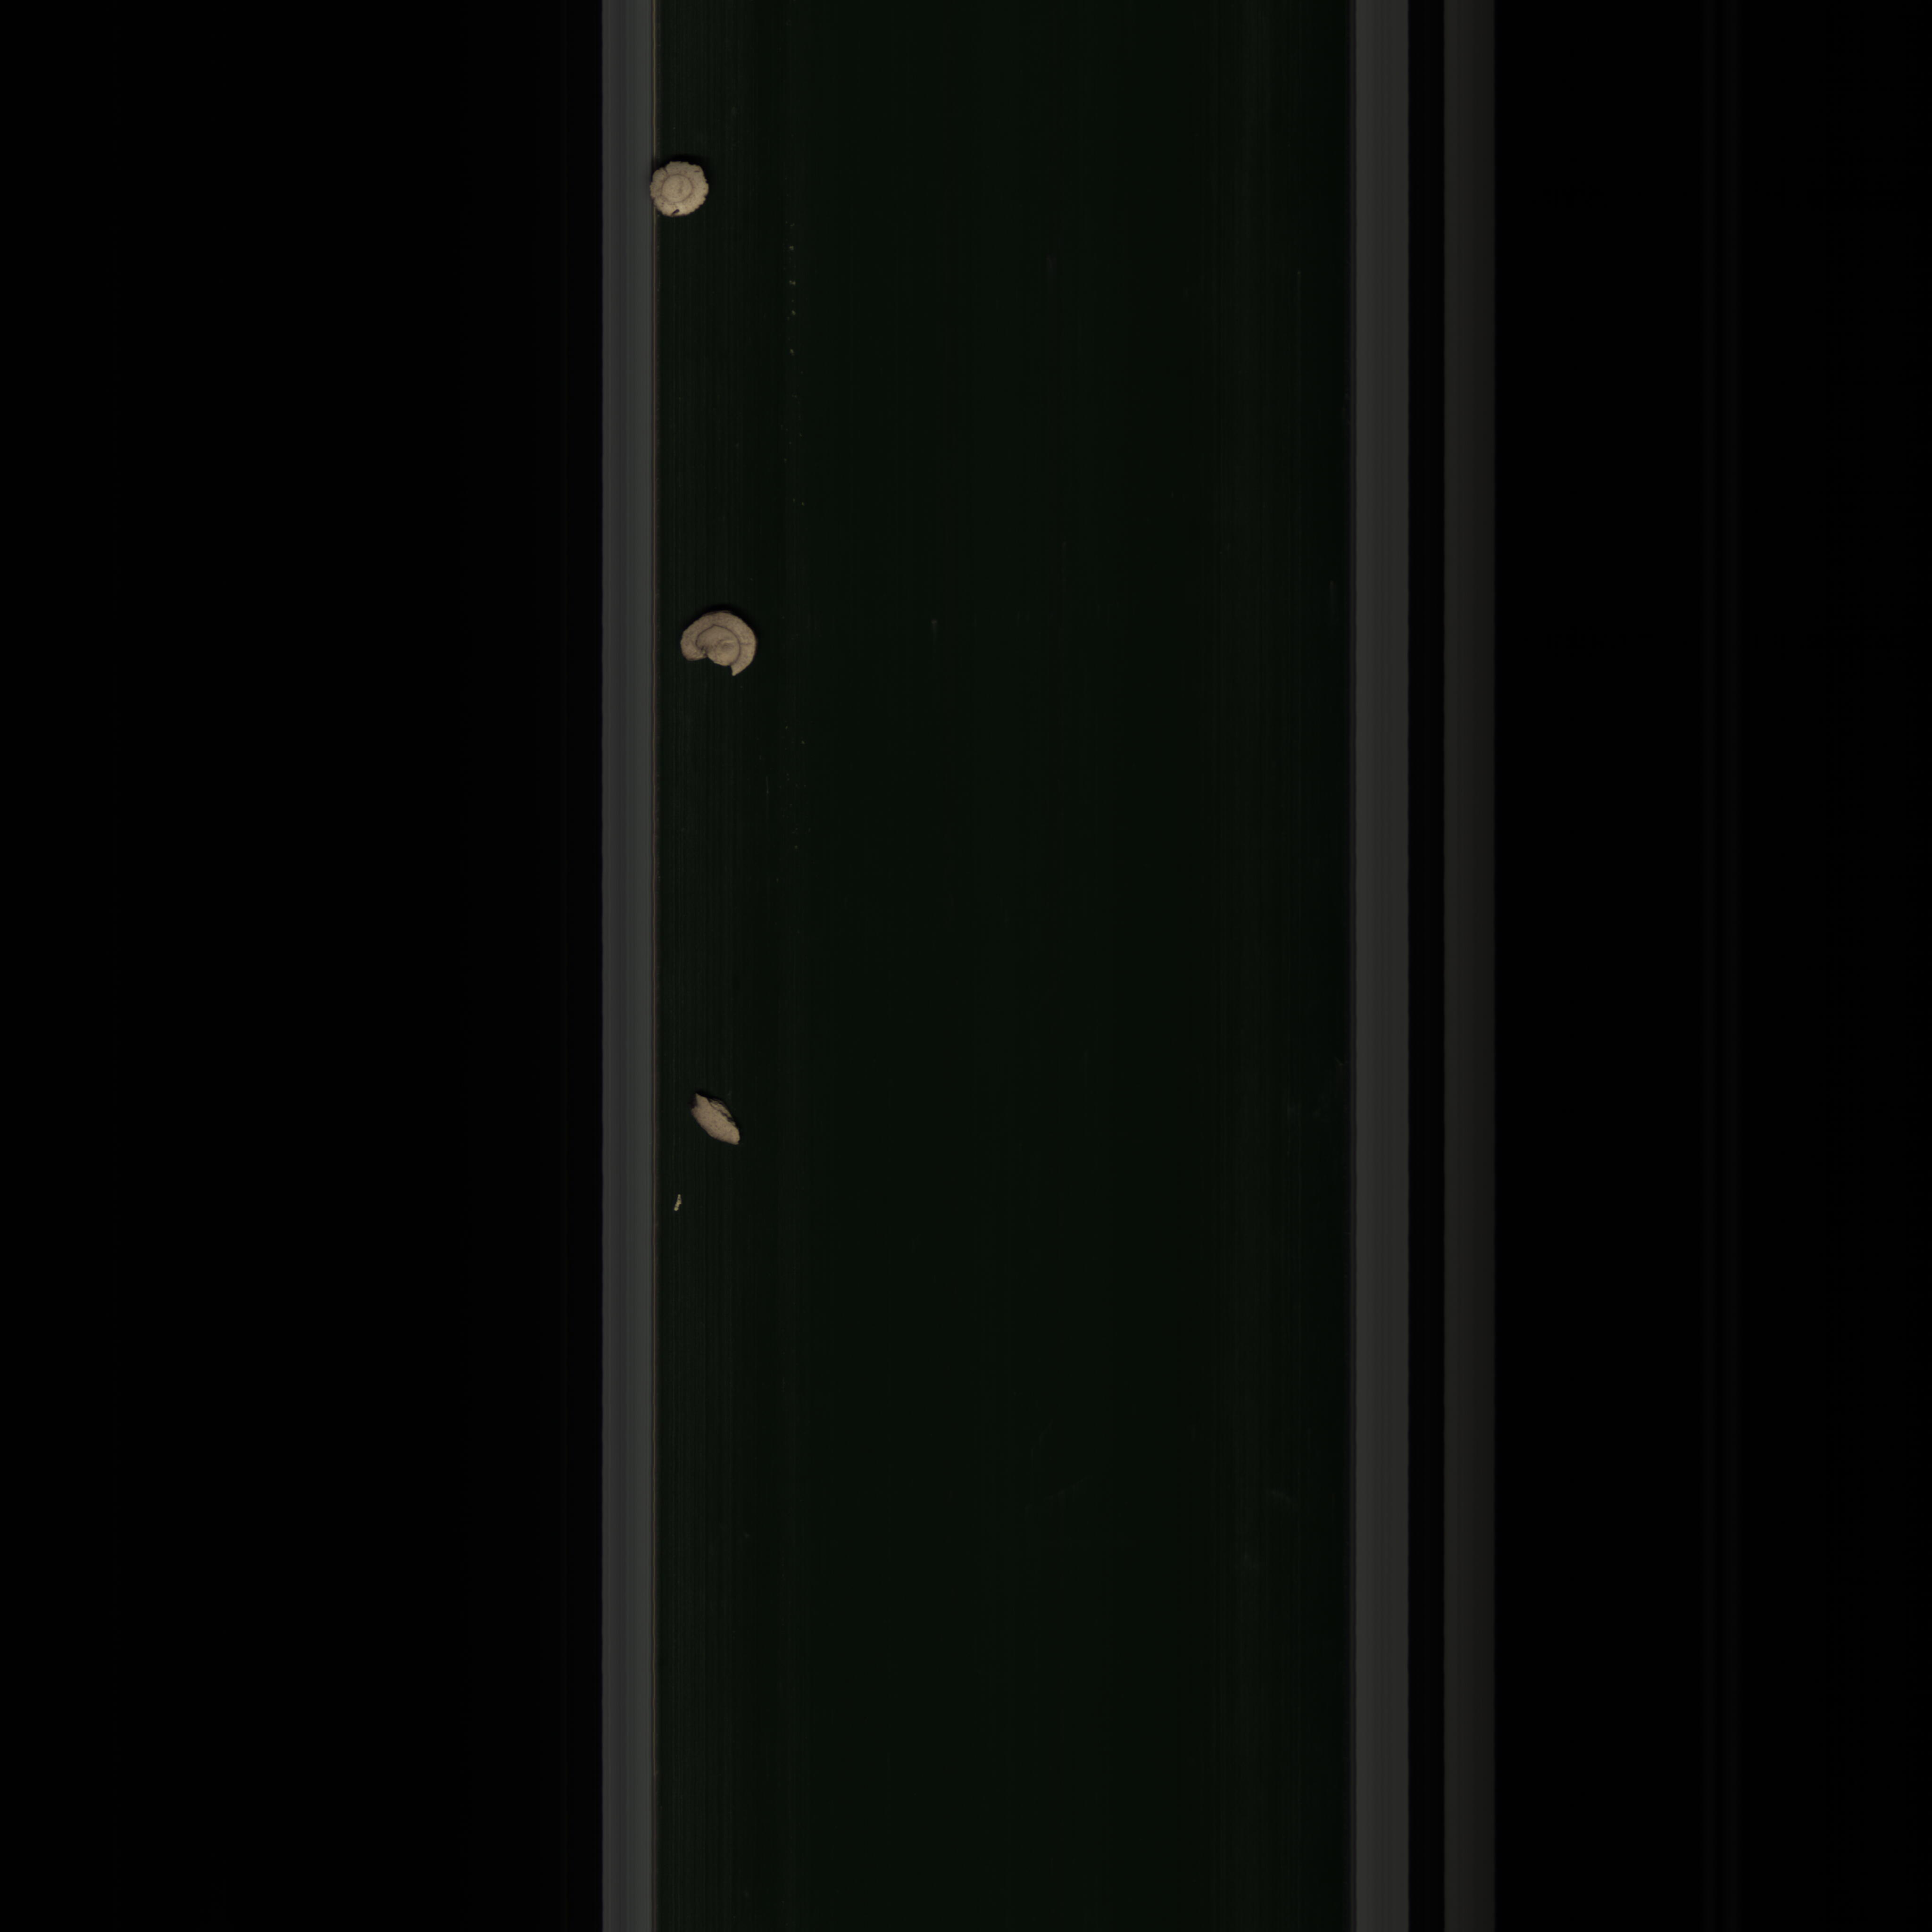debris: (674, 607, 764, 683), (683, 1085, 748, 1152)
